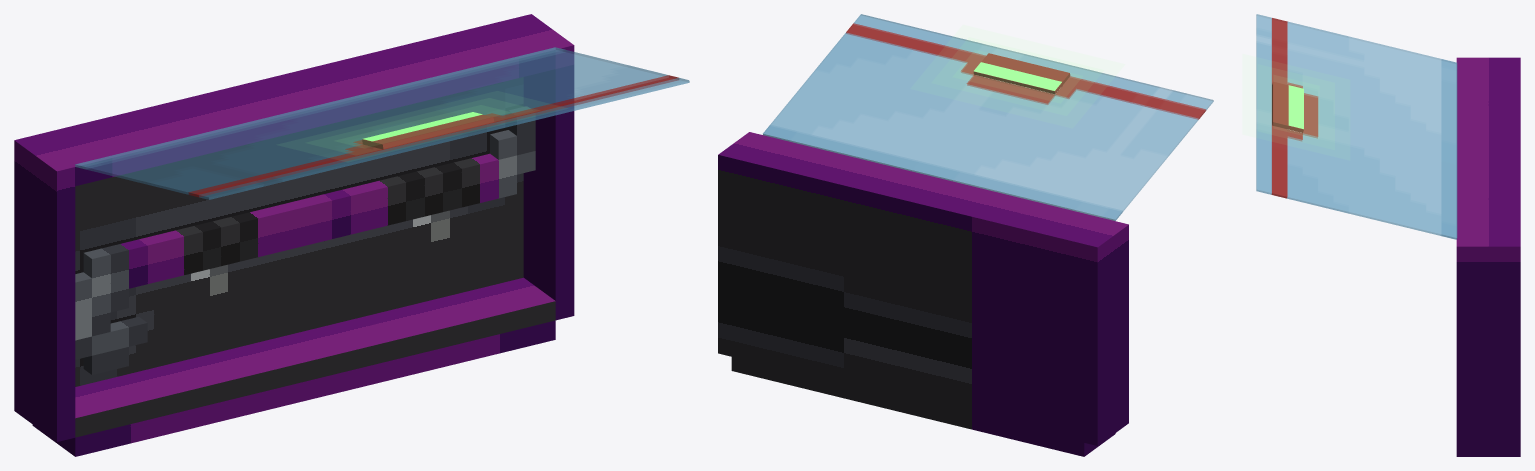
Rendered from mech_removal_cabinet_open.glb.
3 renders of one model, left to right at view 1: azimuth 30°, elevation 25°; view 2: azimuth 150°, elevation 25°; view 3: azimuth 270°, elevation 25°, orthographic. The views are drawn at different scales.
Visible parts, largest first — view 1: Continuous_Cabinet_Shell, Closed_Thickness_Door_Glass, Removable_crowbar, Lock_Overlay, Door_Handle; view 2: Continuous_Cabinet_Shell, Closed_Thickness_Door_Glass, Lock_Overlay, Door_Handle; view 3: Closed_Thickness_Door_Glass, Continuous_Cabinet_Shell, Lock_Overlay, Door_Handle.
Part boxes in pixels (bbox=[...]): Continuous_Cabinet_Shell: bbox=[14, 14, 574, 456]; Closed_Thickness_Door_Glass: bbox=[75, 47, 689, 199]; Removable_crowbar: bbox=[75, 106, 535, 374]; Lock_Overlay: bbox=[308, 98, 538, 154]; Door_Handle: bbox=[362, 114, 494, 149]; Continuous_Cabinet_Shell: bbox=[718, 132, 1128, 456]; Closed_Thickness_Door_Glass: bbox=[763, 14, 1213, 220]; Lock_Overlay: bbox=[932, 38, 1103, 115]; Door_Handle: bbox=[973, 53, 1070, 94]; Closed_Thickness_Door_Glass: bbox=[1256, 14, 1457, 239]; Continuous_Cabinet_Shell: bbox=[1456, 57, 1520, 456]; Lock_Overlay: bbox=[1258, 65, 1334, 149]; Door_Handle: bbox=[1272, 81, 1303, 132].
Bounding box in the file's own units: 0.7875 × 0.5347 × 0.4899.
5 materials, 5 textured.
